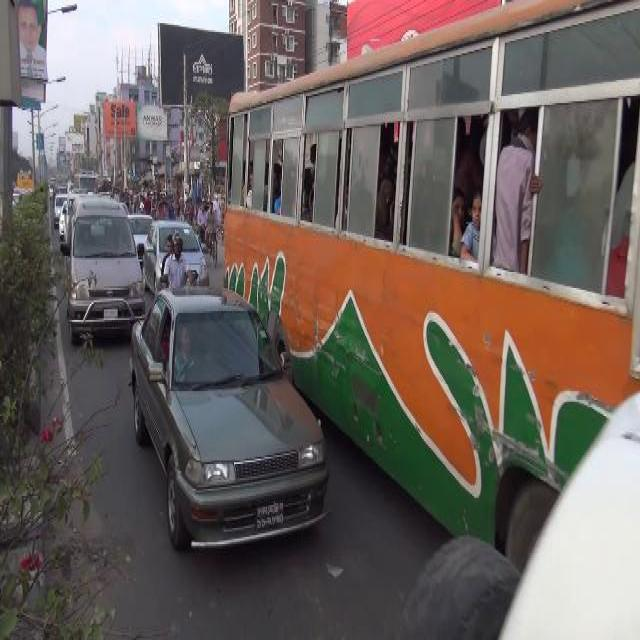10: (162, 232, 196, 305)
13: (197, 199, 220, 267), (154, 193, 176, 223), (180, 189, 194, 227)
15: (144, 218, 210, 294)
5: (126, 283, 334, 553), (125, 212, 156, 262), (52, 189, 64, 227)
9: (64, 193, 146, 347)
Truck: (219, 0, 639, 588), (72, 169, 100, 194), (14, 166, 34, 193)
